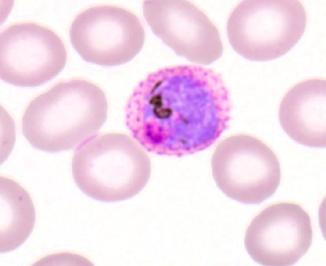Infected: (125, 65, 231, 156)
Uninfected: (22, 79, 105, 153), (71, 134, 153, 203), (144, 0, 223, 66), (225, 0, 308, 60), (69, 4, 147, 67), (213, 135, 282, 204), (0, 22, 67, 88), (244, 203, 314, 266), (279, 77, 326, 146)
